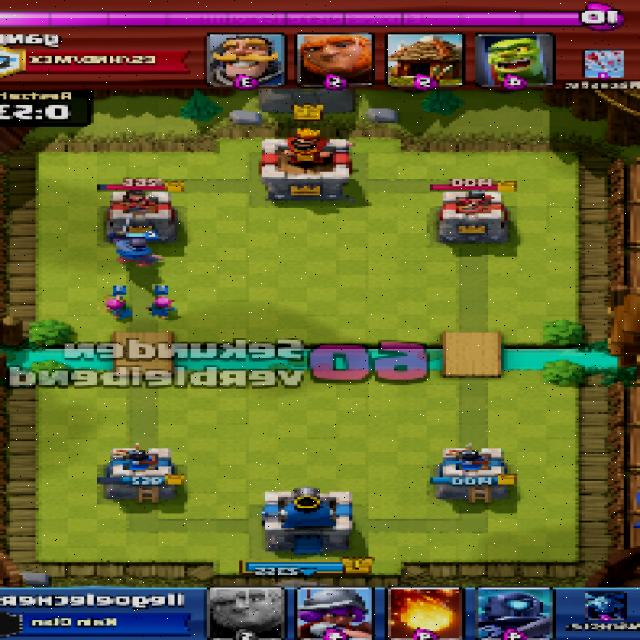Player-Archer: (103, 296, 134, 317), (146, 296, 176, 314)
Player-Knight: (104, 236, 166, 265)
